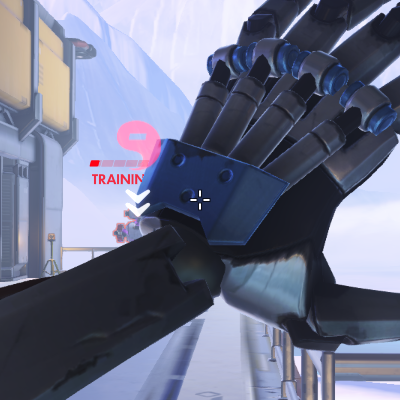hpbar: (89, 159, 150, 168)
